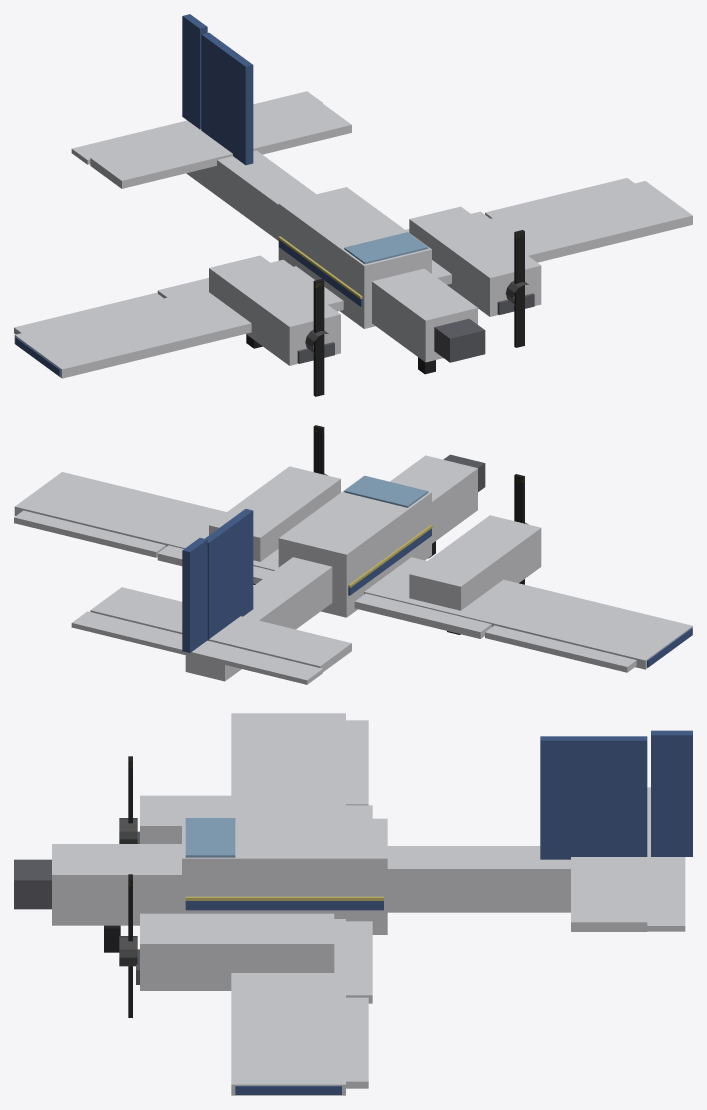
Rendered from baron58.glb.
3 renders of one model, top to bottom at view 1: azimuth 30°, elevation 25°; view 2: azimuth 150°, elevation 25°; view 3: azimuth 270°, elevation 25°, orthographic. The views are drawn at different scales.
Parts seen in each view (by area): view 1: Fuselage, Wings, Nacelle_L, Nacelle_R, Elevator, Rudder, Propeller, Propeller_R, Aileron_L, Aileron_R, Flap_L; view 2: Fuselage, Wings, Nacelle_L, Nacelle_R, Elevator, Rudder, Flap_L, Aileron_L, Aileron_R, Flap_R, Propeller_R, Propeller; view 3: Fuselage, Wings, Nacelle_R, Nacelle_L, Rudder, Elevator, Aileron_R, Flap_R, Aileron_L, Propeller_R, Propeller.
Boxes of the visible parts, x1=… form: Fuselage: x1=90, y1=32, x2=485, y2=362; Wings: x1=14, y1=181, x2=692, y2=378; Nacelle_L: x1=209, y1=255, x2=340, y2=365; Nacelle_R: x1=409, y1=206, x2=541, y2=316; Elevator: x1=71, y1=91, x2=322, y2=164; Rudder: x1=182, y1=14, x2=207, y2=129; Propeller: x1=305, y1=279, x2=328, y2=396; Propeller_R: x1=505, y1=230, x2=528, y2=347; Aileron_L: x1=14, y1=292, x2=163, y2=334; Aileron_R: x1=485, y1=178, x2=634, y2=218; Flap_L: x1=157, y1=259, x2=292, y2=298; Fuselage: x1=90, y1=454, x2=485, y2=681; Wings: x1=14, y1=472, x2=692, y2=669; Nacelle_L: x1=409, y1=515, x2=541, y2=610; Nacelle_R: x1=209, y1=466, x2=340, y2=561; Elevator: x1=71, y1=611, x2=322, y2=684; Rudder: x1=182, y1=538, x2=207, y2=652; Flap_L: x1=354, y1=593, x2=491, y2=638; Aileron_L: x1=485, y1=625, x2=636, y2=672; Aileron_R: x1=14, y1=510, x2=165, y2=557; Flap_R: x1=157, y1=545, x2=273, y2=584; Propeller_R: x1=313, y1=425, x2=327, y2=475; Propeller: x1=514, y1=474, x2=528, y2=584; Fuselage: x1=14, y1=736, x2=647, y2=934; Wings: x1=231, y1=713, x2=345, y2=1095; Nacelle_R: x1=136, y1=913, x2=334, y2=990; Nacelle_L: x1=137, y1=795, x2=334, y2=843; Rudder: x1=651, y1=730, x2=692, y2=856; Elevator: x1=647, y1=787, x2=685, y2=931; Aileron_R: x1=346, y1=997, x2=368, y2=1088; Flap_R: x1=346, y1=921, x2=372, y2=1003; Aileron_L: x1=346, y1=720, x2=368, y2=805; Propeller_R: x1=119, y1=874, x2=137, y2=1017; Propeller: x1=119, y1=756, x2=137, y2=843.
Size of the model in its own units: 11.56 by 3.23 by 8.9.
